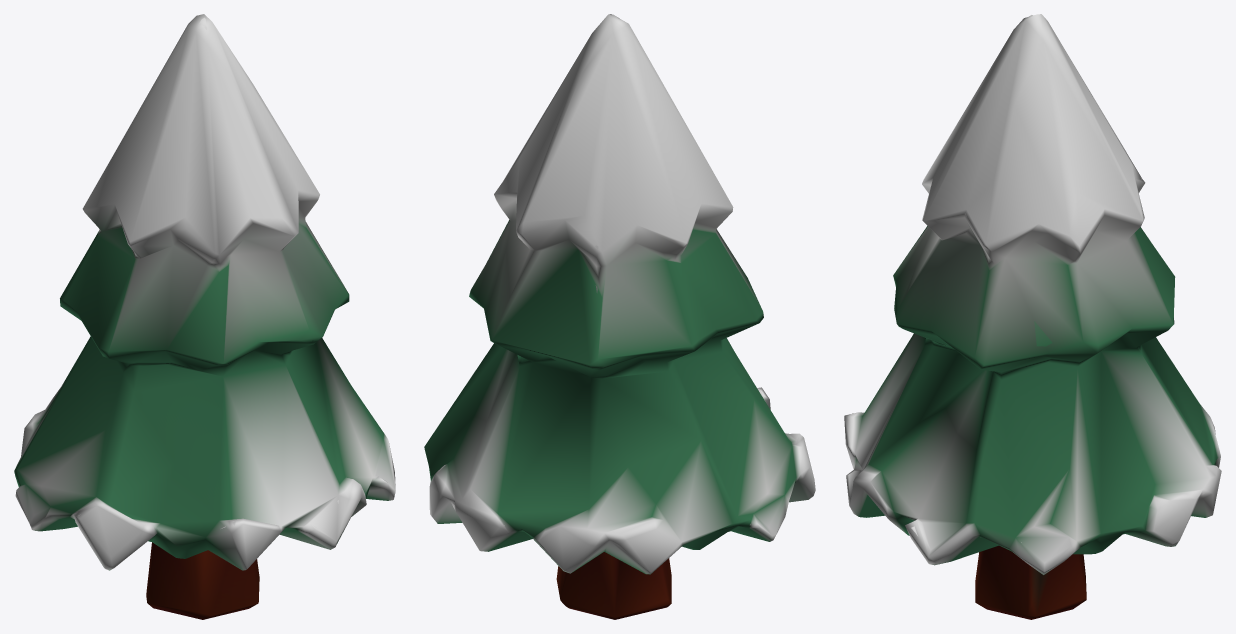
Rendered from gen3d-snowy-fir-tree-lod1.glb.
3 views of the same model, side by side, from view 1: azimuth 30°, elevation 25°; view 2: azimuth 150°, elevation 25°; view 3: azimuth 270°, elevation 25° (orthographic).
Visible parts, largest first — view 1: part_0; view 2: part_0; view 3: part_0.
Boxes of the visible parts, <box> form: part_0: <box>14,14,395,619</box>; part_0: <box>424,14,815,619</box>; part_0: <box>844,14,1221,619</box>.
Bounding box in the file's own units: 0.5988 × 0.998 × 0.5866.
